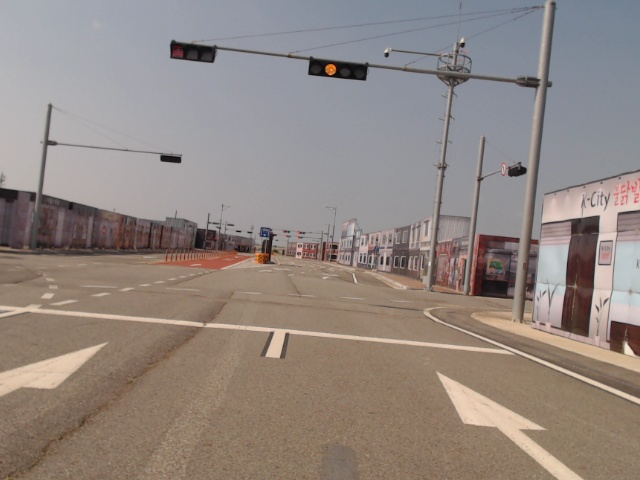orange_4: (310, 57, 369, 82)
